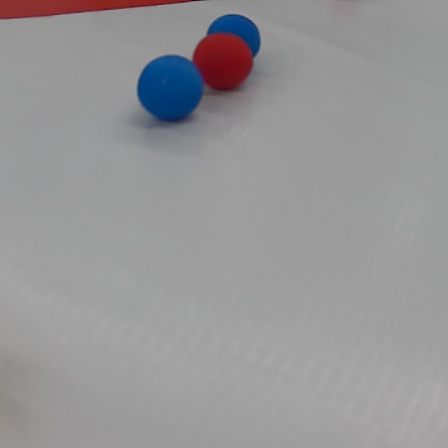blue: (136, 54, 204, 121), (208, 14, 269, 55)
red: (191, 34, 253, 87)
red_base: (0, 0, 215, 20)
